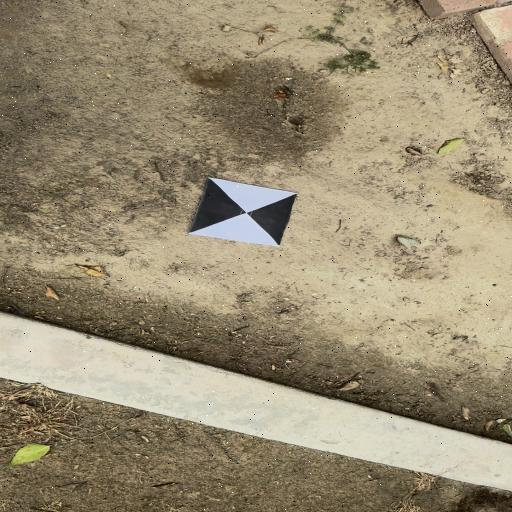target: (189, 178, 297, 247)
